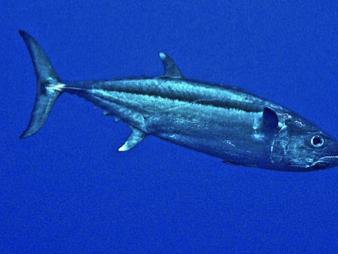Scombridae -Tunas-: (14, 24, 338, 173)
